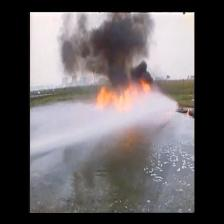smoke: (66, 26, 145, 77)
